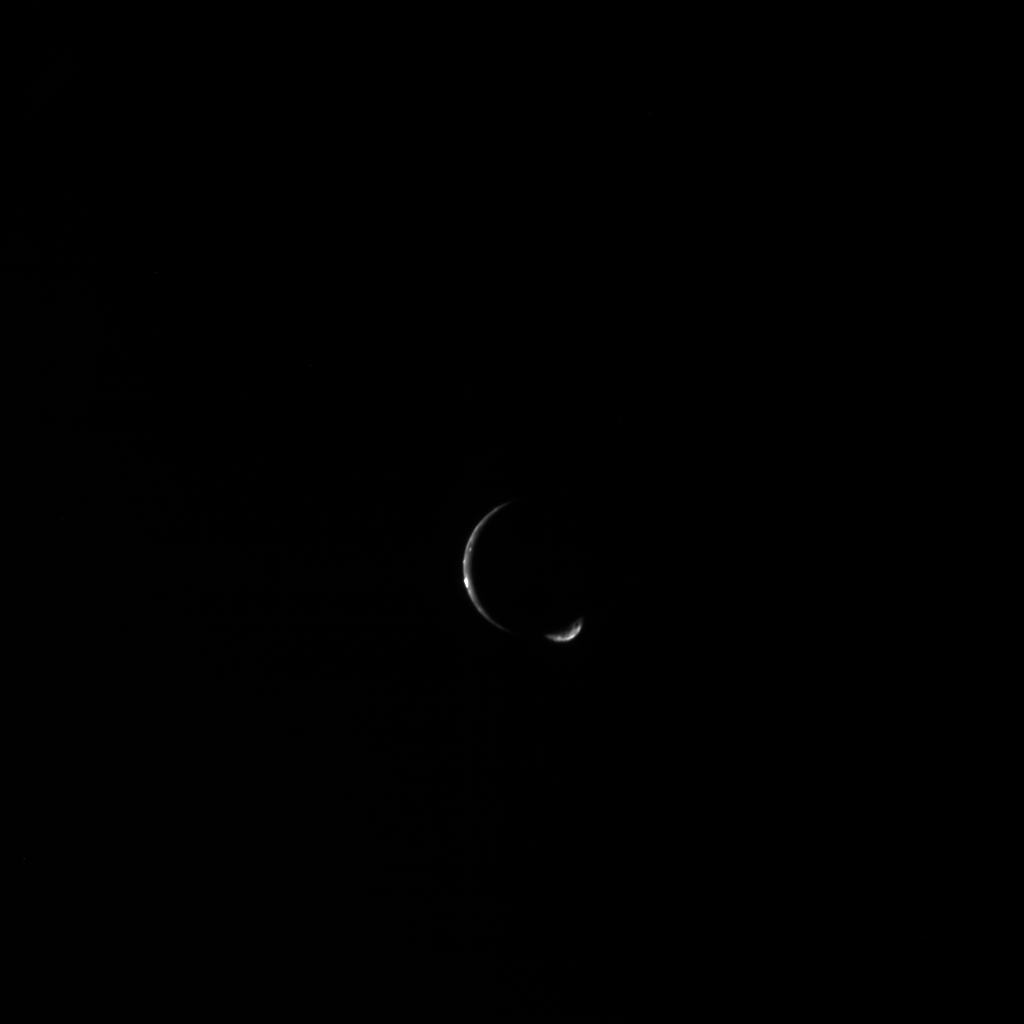plumes: (546, 617, 583, 644)
